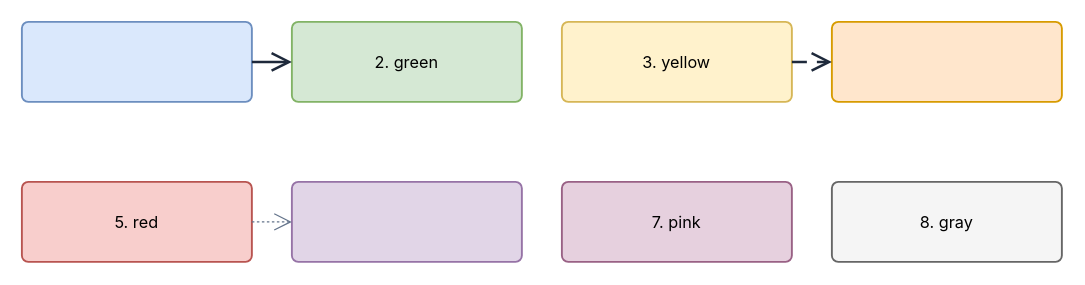
Image size: 1085x285. Some labels were removed from this diagram. The centre of each missing label's shape, as x and y in pixels:
1. blue: (x=136, y=61)
4. orange: (x=946, y=61)
6. purple: (x=406, y=221)
